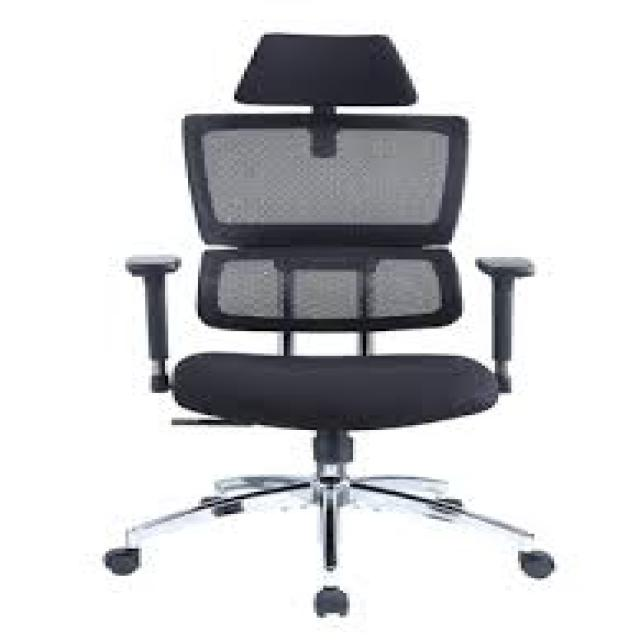chair: (66, 12, 618, 640)
